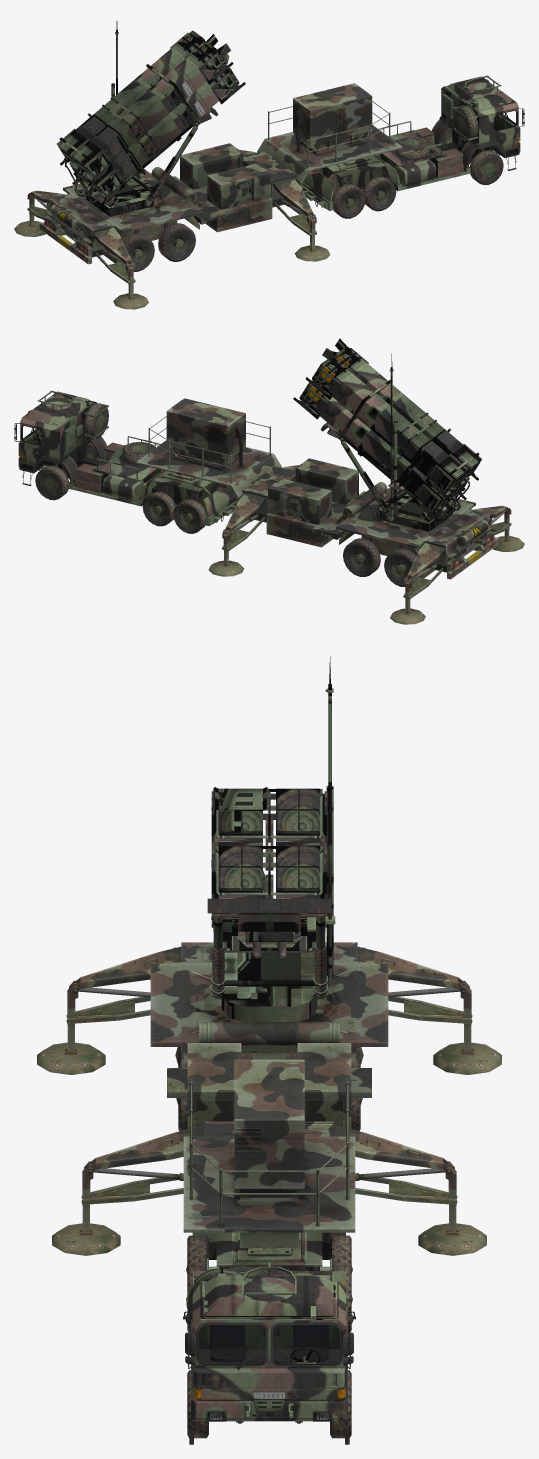
Rendered from mim-104-patriot.glb.
The picture shows the model from 3 angles, top to bottom: view 1: azimuth 30°, elevation 25°; view 2: azimuth 150°, elevation 25°; view 3: azimuth 270°, elevation 25°; orthographic projection. The views are drawn at different scales.
Parts seen in each view (by area): view 1: Object_2, Object_6, Object_4, Object_5, Object_7, Object_3; view 2: Object_2, Object_6, Object_7, Object_5, Object_4; view 3: Object_2, Object_6, Object_4, Object_5, Object_7, Object_3.
Part boxes in pixels (bbox=[...]): Object_2: bbox=[14, 83, 402, 309]; Object_6: bbox=[65, 21, 515, 216]; Object_4: bbox=[302, 75, 524, 217]; Object_5: bbox=[57, 32, 524, 218]; Object_7: bbox=[58, 31, 239, 197]; Object_3: bbox=[45, 177, 314, 249]; Object_2: bbox=[136, 398, 524, 624]; Object_6: bbox=[23, 338, 480, 531]; Object_7: bbox=[299, 356, 481, 517]; Object_5: bbox=[14, 351, 481, 522]; Object_4: bbox=[14, 390, 236, 533]; Object_2: bbox=[37, 931, 501, 1255]; Object_6: bbox=[187, 656, 351, 1438]; Object_4: bbox=[184, 1232, 355, 1444]; Object_5: bbox=[183, 688, 351, 1444]; Object_7: bbox=[211, 832, 327, 984]; Object_3: bbox=[82, 1125, 459, 1235].
Size of the model in its own units: 22.57 by 11.07 by 10.24.
Materials: 2 (2 with a texture image).
